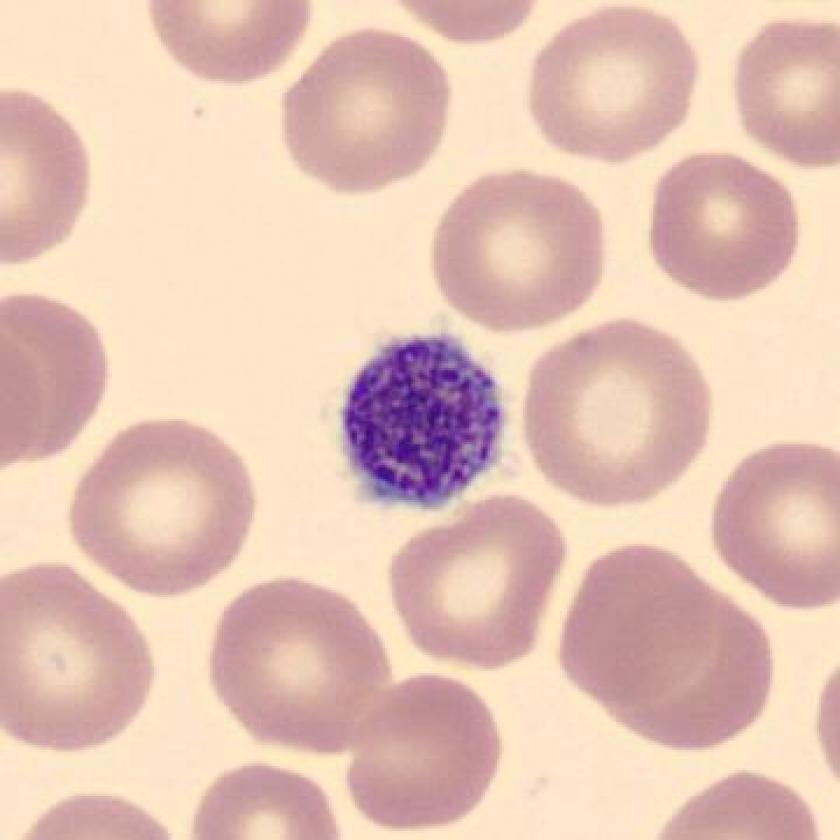platelets: (323, 318, 526, 524)
